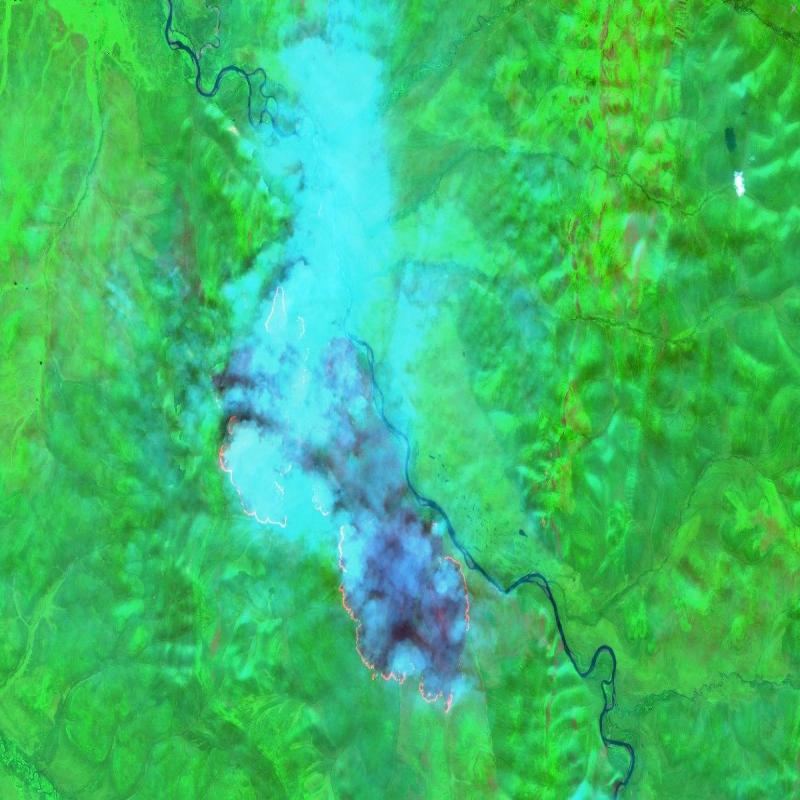fire: (218, 408, 473, 727)
